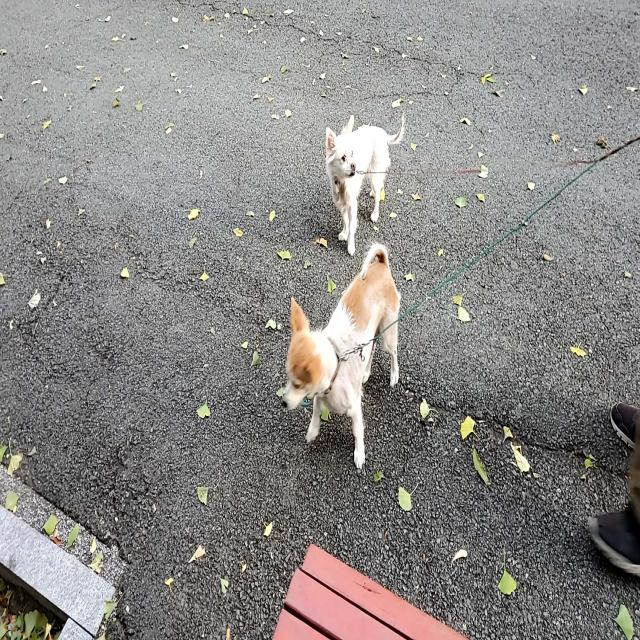Dog: (281, 242, 404, 472), (325, 109, 406, 256)
